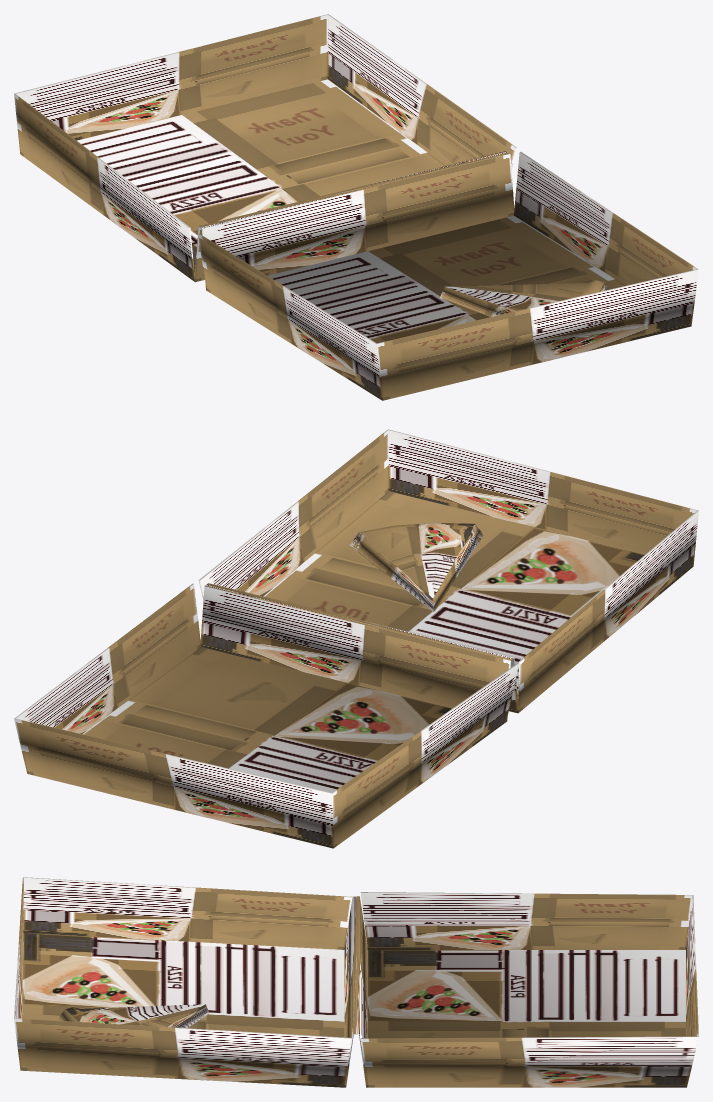
Rendered from pizza_box.FBX.
3 renders of one model, top to bottom at view 1: azimuth 30°, elevation 25°; view 2: azimuth 150°, elevation 25°; view 3: azimuth 270°, elevation 25°, orthographic. The views are drawn at different scales.
Parts seen in each view (by area): view 1: pizza box; view 2: pizza box; view 3: pizza box.
Boxes of the visible parts, box(x1,y1,x2,y2) form: pizza box: box(14, 14, 698, 400); pizza box: box(14, 429, 698, 848); pizza box: box(14, 877, 698, 1087).
Size of the model in its own units: 2.13 by 0.4791 by 4.2.
